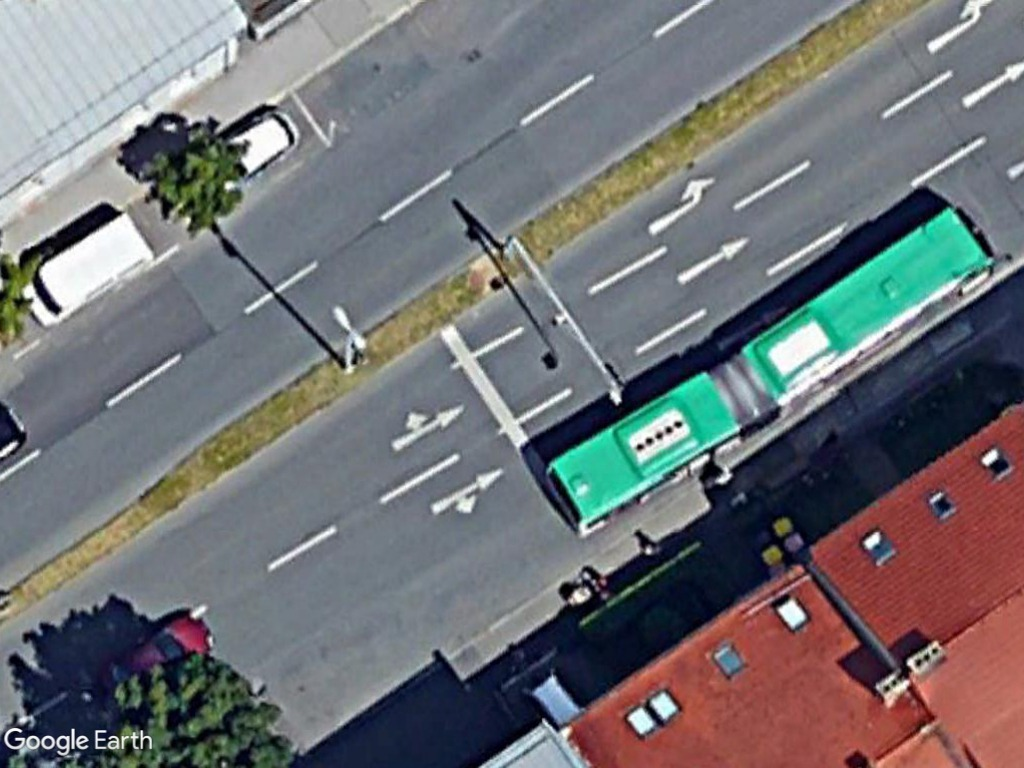bus: (733, 194, 996, 413), (539, 357, 744, 541)
van: (11, 198, 160, 331)
